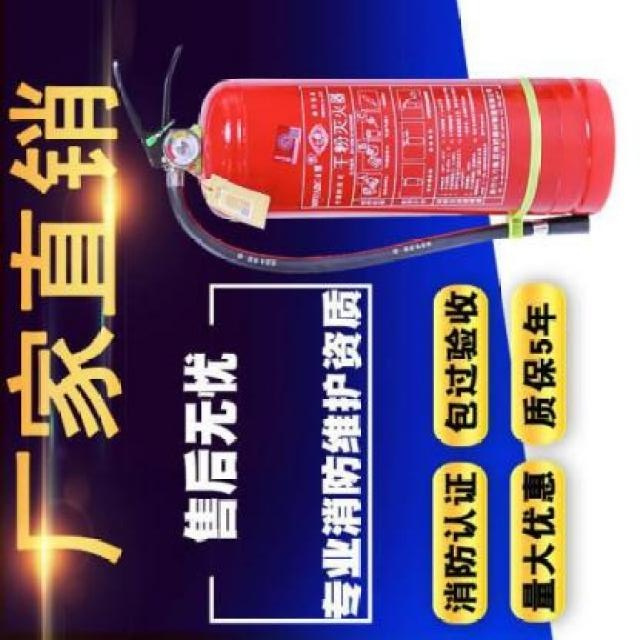fire extinguisher: (112, 47, 617, 275)
